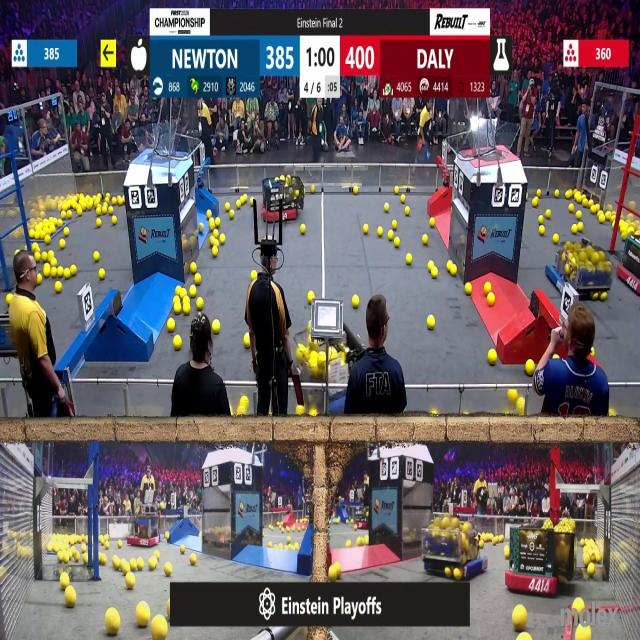ball_ground: (106, 611, 120, 637), (512, 608, 526, 633), (152, 618, 167, 639), (137, 605, 150, 629), (65, 588, 77, 608), (126, 572, 136, 588), (60, 573, 70, 587), (328, 565, 337, 580), (489, 349, 497, 364), (452, 568, 462, 580), (575, 628, 585, 640), (526, 360, 534, 374), (427, 316, 435, 330), (212, 320, 220, 334), (509, 389, 518, 401), (168, 319, 176, 332), (588, 563, 596, 576), (450, 264, 458, 277), (244, 335, 251, 349), (174, 303, 182, 315), (148, 558, 156, 570), (445, 566, 453, 578), (518, 398, 526, 410), (574, 598, 582, 610), (42, 265, 49, 278), (120, 559, 127, 572), (464, 283, 472, 294), (488, 293, 495, 305), (174, 338, 181, 350), (352, 295, 359, 307), (182, 304, 189, 316), (70, 266, 77, 278), (195, 299, 202, 311), (166, 563, 173, 575), (113, 558, 120, 570), (295, 407, 303, 417), (56, 282, 63, 293), (189, 554, 195, 566), (138, 559, 144, 571), (485, 282, 491, 294), (99, 270, 106, 280), (188, 286, 195, 296), (94, 251, 101, 261), (131, 560, 138, 570), (181, 286, 188, 296), (309, 291, 315, 302), (193, 274, 199, 285), (64, 269, 70, 280), (503, 548, 509, 559), (100, 554, 106, 565), (58, 268, 64, 279), (59, 552, 65, 563), (520, 633, 529, 640), (241, 396, 248, 405), (572, 223, 578, 233), (212, 246, 218, 256), (407, 254, 413, 264), (299, 223, 305, 233), (394, 238, 400, 248), (250, 271, 256, 281), (554, 235, 560, 245), (189, 264, 195, 274), (431, 269, 437, 279), (219, 235, 225, 245), (532, 198, 538, 208), (422, 236, 428, 246), (34, 275, 40, 285), (50, 268, 56, 278), (428, 262, 434, 272), (42, 252, 48, 262), (598, 213, 604, 223), (75, 553, 81, 563), (49, 258, 56, 266), (310, 411, 318, 418), (174, 294, 181, 302), (608, 410, 615, 418), (564, 190, 571, 198), (600, 291, 606, 300), (35, 252, 41, 261), (64, 229, 70, 238), (108, 206, 114, 215), (66, 210, 72, 219), (209, 220, 215, 229), (591, 205, 597, 214), (76, 207, 82, 216), (44, 236, 50, 245), (363, 223, 368, 233), (539, 224, 544, 234), (378, 226, 383, 236), (83, 554, 88, 564), (176, 286, 181, 296), (6, 293, 11, 303), (215, 217, 220, 227), (200, 222, 205, 232), (388, 232, 394, 240), (403, 207, 409, 215), (544, 210, 550, 218), (228, 210, 234, 218), (575, 211, 581, 219), (117, 198, 123, 206), (384, 204, 390, 212), (429, 218, 435, 226), (33, 244, 39, 252), (593, 292, 599, 300), (117, 539, 123, 547), (242, 194, 248, 202), (584, 200, 590, 208), (61, 240, 66, 249), (97, 218, 102, 227), (538, 215, 543, 224), (210, 237, 215, 246), (48, 250, 53, 259), (182, 296, 189, 302), (430, 411, 436, 418), (286, 536, 292, 543), (356, 537, 362, 544), (180, 544, 185, 552), (111, 216, 116, 224), (392, 220, 397, 228), (224, 203, 229, 211), (577, 222, 582, 230), (237, 202, 242, 210), (81, 542, 86, 550), (207, 210, 212, 218), (347, 539, 352, 547), (214, 228, 219, 236), (499, 538, 504, 546), (353, 187, 358, 194), (97, 208, 102, 215), (394, 186, 399, 193), (400, 194, 404, 202), (556, 189, 560, 197), (536, 188, 540, 196), (250, 200, 254, 208), (164, 535, 168, 543), (312, 185, 316, 193), (112, 198, 116, 206), (106, 192, 110, 200), (105, 542, 110, 548), (569, 205, 573, 212), (155, 551, 159, 558), (554, 354, 559, 359), (269, 541, 273, 547)
goal: (464, 121, 522, 160), (131, 129, 188, 161)
robot_blue: (288, 326, 354, 412), (420, 517, 484, 581), (547, 238, 613, 300)
robot_red: (508, 517, 562, 597), (604, 514, 640, 628), (261, 172, 303, 221), (618, 216, 640, 298), (128, 514, 162, 547), (348, 505, 371, 528)
